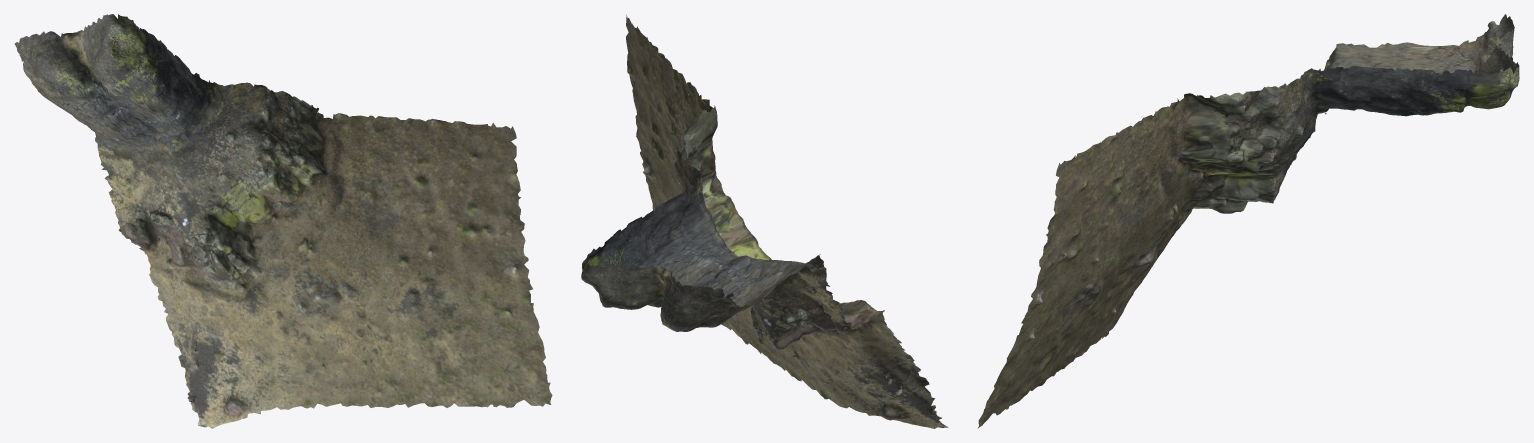
Rendered from tile_60.obj.
3 views of the same model, side by side, from view 1: azimuth 30°, elevation 25°; view 2: azimuth 150°, elevation 25°; view 3: azimuth 270°, elevation 25° (orthographic). The views are drawn at different scales.
Bounding box in the file's own units: 1.14 × 0.949 × 1.72.
1 material, 1 textured.
